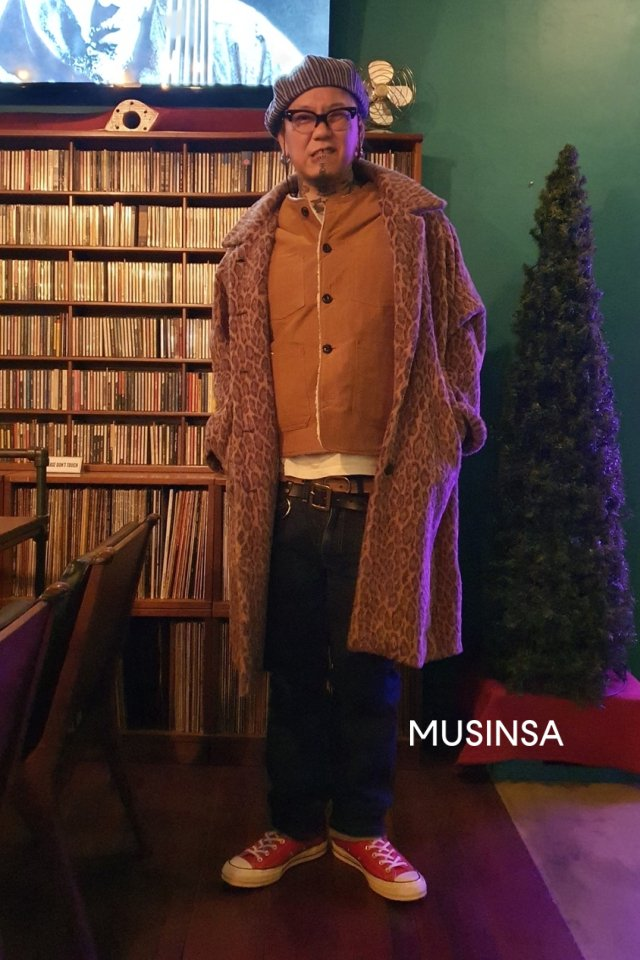Accessories: (274, 470, 380, 517)
Coat: (207, 157, 487, 684)
Glasses: (283, 108, 364, 133)
Hat: (260, 43, 377, 127)
Pants: (278, 492, 412, 844)
Shoes: (217, 828, 438, 913)
